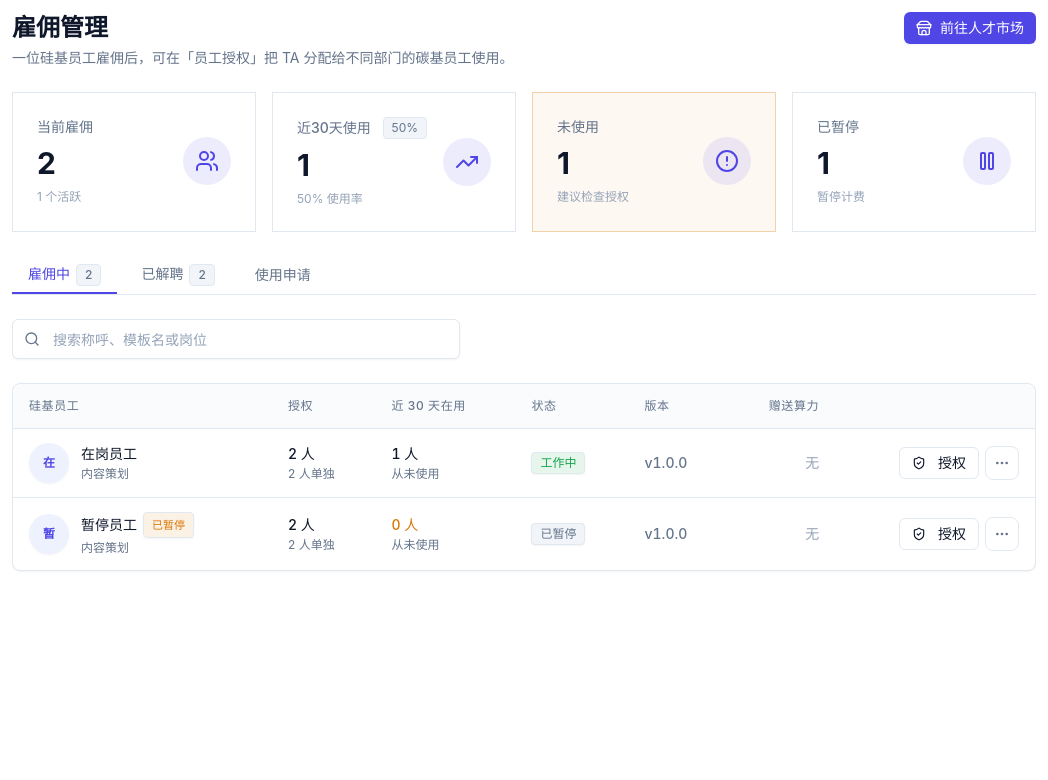
it: 雇佣管理分类 › 历史分类包含两种终态，保持可读且不提供管理操作
The image size is (1048, 780).
Step 1. Click the button "已解聘 2" → (178, 275), box x1=125 y1=256 x2=231 y2=294
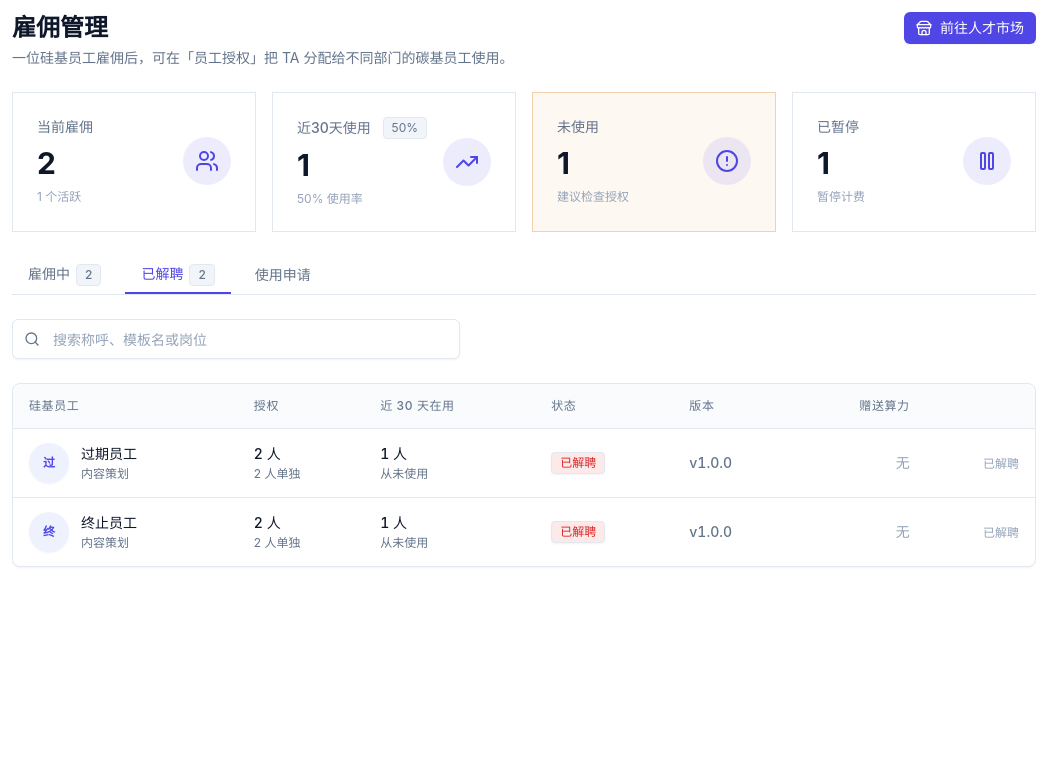
Now the link "过期员工" is shown, box x1=81 y1=444 x2=137 y2=464
Now the link "终止员工" is shown, box x1=81 y1=513 x2=137 y2=533
Now the link "在岗员工" is gone
